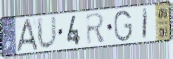4: (66, 14, 82, 48)
A: (15, 18, 39, 55)
G: (113, 9, 134, 43)
I: (141, 8, 149, 42)
R: (84, 12, 107, 47)
U: (36, 14, 59, 51)
